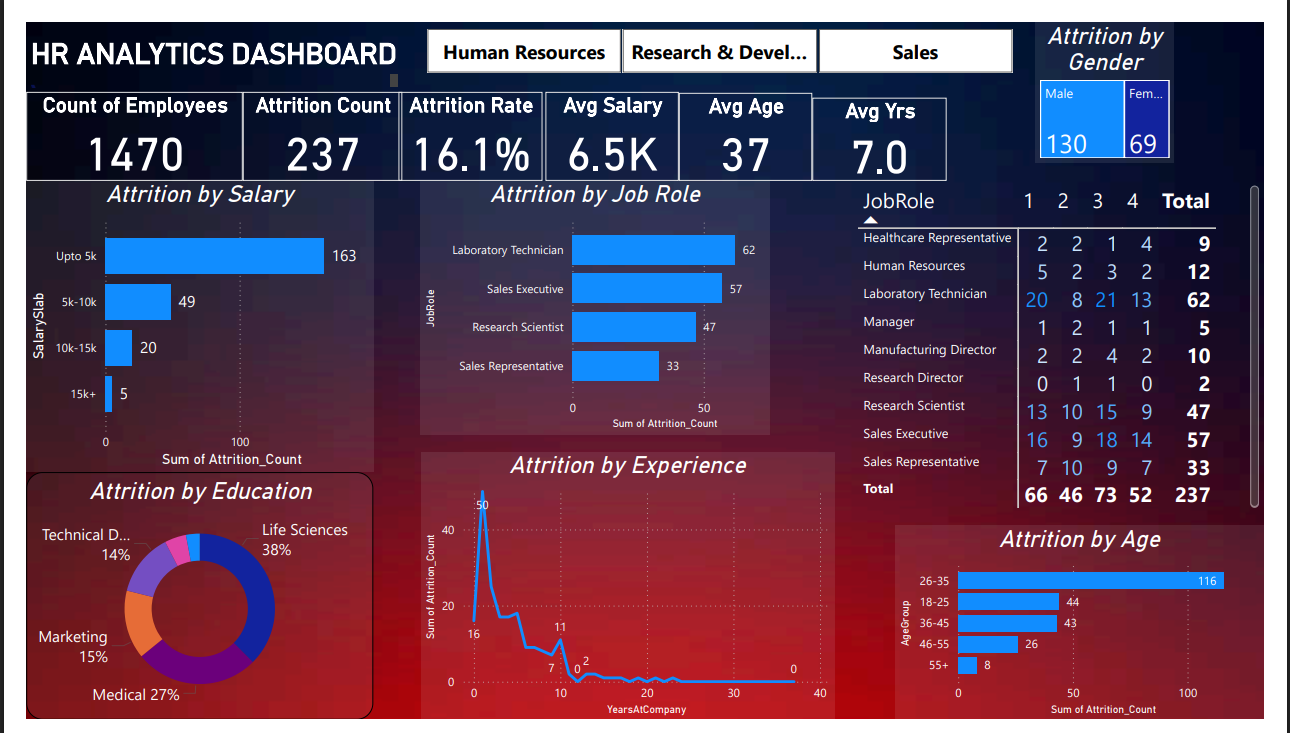

The dashboard page shown, as its layout file describes it:
{"tool":"powerbi","page":{"name":"Page 1","canvas":[1280,720],"ordinal":0},"visuals":[{"type":"card","title":"Count of Employees","fields":{"Values":["CountNonNull(HR_Analytics.EmpID)"]},"box":[0,71.6,224.5,92.7],"z":0},{"type":"card","title":"Attrition Count","fields":{"Values":["Sum(HR_Analytics.Attrition_Count)"]},"box":[224.5,71.6,164.3,92.7],"z":1000},{"type":"card","title":"Attrition Rate","fields":{"Values":["HR_Analytics.Attrition_Rate"]},"box":[385.5,71.6,148,92.7],"z":2000},{"type":"card","title":"Avg  Salary","fields":{"Values":["Avg(HR_Analytics.MonthlyIncome)"]},"box":[536.8,71.6,138.3,92.7],"z":3000},{"type":"card","title":"Avg Age","fields":{"Values":["Avg(HR_Analytics.Age)"]},"box":[675,73.2,138.3,91.1],"z":4000},{"type":"card","title":"Avg Yrs","fields":{"Values":["Avg(HR_Analytics.YearsAtCompany)"]},"box":[813.3,78.1,138.3,86.2],"z":5000},{"type":"donutChart","title":"Attrition by Education","fields":{"Category":["HR_Analytics.EducationField"],"Y":["Sum(HR_Analytics.Attrition_Count)"]},"box":[0,465.2,359.5,255.4],"z":6000},{"type":"clusteredBarChart","title":"Attrition by Age","fields":{"Category":["HR_Analytics.AgeGroup"],"Y":["Sum(HR_Analytics.Attrition_Count)"]},"box":[899.5,520.5,380.6,200.1],"z":7000},{"type":"pivotTable","title":"Job Role","fields":{"Rows":["HR_Analytics.JobRole"],"Columns":["HR_Analytics.JobSatisfaction"],"Values":["Sum(HR_Analytics.Attrition_Count)"]},"box":[855.6,164.3,424.5,343.2],"z":8000},{"type":"clusteredBarChart","title":"Attrition by Salary","fields":{"Category":["HR_Analytics.SalarySlab"],"Y":["Sum(HR_Analytics.Attrition_Count)"]},"box":[0,164.3,359.5,300.9],"z":9000},{"type":"clusteredBarChart","title":"Attrition by Job Role","fields":{"Category":["HR_Analytics.JobRole"],"Y":["Sum(HR_Analytics.Attrition_Count)"]},"box":[408.3,164.3,361.1,261.9],"z":10000},{"type":"lineChart","title":"Attrition by Experience","fields":{"Category":["HR_Analytics.YearsAtCompany"],"Y":["Sum(HR_Analytics.Attrition_Count)"]},"box":[408.3,444,427.8,276.5],"z":11000},{"type":"treemap","title":"Attrition by Gender","fields":{"Group":["HR_Analytics.Gender"],"Values":["Sum(HR_Analytics.Attrition_Count)"]},"box":[1044.2,0,143.1,144.8],"z":12000},{"type":"slicer","fields":{"Values":["HR_Analytics.Department"]},"box":[388.6,0,655.7,58.6],"z":13000},{"type":"textbox","title":"HR ANALYTICS DASHBOARD","box":[0,14.6,388.7,56.9],"z":14000}]}

Visuals, with their boxes in screenshot pixels (x1, y1, x2, y2), scaled from the page's 1280x720 canvas onto the 1290x733 screenshot:
"Count of Employees" card: {"x1": 0, "y1": 73, "x2": 226, "y2": 167}
"Attrition Count" card: {"x1": 226, "y1": 73, "x2": 392, "y2": 167}
"Attrition Rate" card: {"x1": 389, "y1": 73, "x2": 538, "y2": 167}
"Avg  Salary" card: {"x1": 541, "y1": 73, "x2": 680, "y2": 167}
"Avg Age" card: {"x1": 680, "y1": 75, "x2": 820, "y2": 167}
"Avg Yrs" card: {"x1": 820, "y1": 80, "x2": 959, "y2": 167}
"Attrition by Education" donutChart: {"x1": 0, "y1": 474, "x2": 362, "y2": 732}
"Attrition by Age" clusteredBarChart: {"x1": 907, "y1": 530, "x2": 1289, "y2": 732}
"Job Role" pivotTable: {"x1": 862, "y1": 167, "x2": 1289, "y2": 517}
"Attrition by Salary" clusteredBarChart: {"x1": 0, "y1": 167, "x2": 362, "y2": 474}
"Attrition by Job Role" clusteredBarChart: {"x1": 411, "y1": 167, "x2": 775, "y2": 434}
"Attrition by Experience" lineChart: {"x1": 411, "y1": 452, "x2": 843, "y2": 732}
"Attrition by Gender" treemap: {"x1": 1052, "y1": 0, "x2": 1197, "y2": 147}
slicer - HR_Analytics.Department: {"x1": 392, "y1": 0, "x2": 1052, "y2": 60}
"HR ANALYTICS DASHBOARD" textbox: {"x1": 0, "y1": 15, "x2": 392, "y2": 73}
